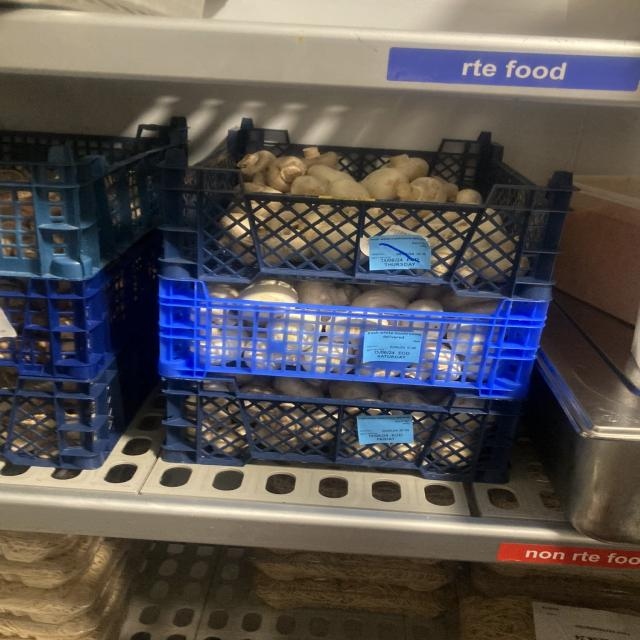product-labels: (369, 234, 432, 271), (363, 331, 423, 363), (357, 413, 414, 445)
